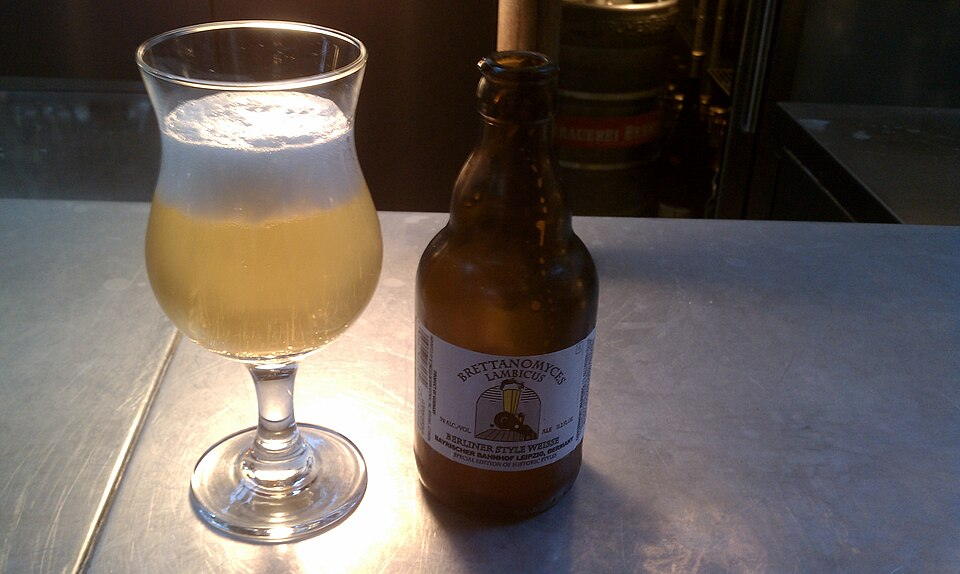beer-bottle: (403, 48, 609, 535)
